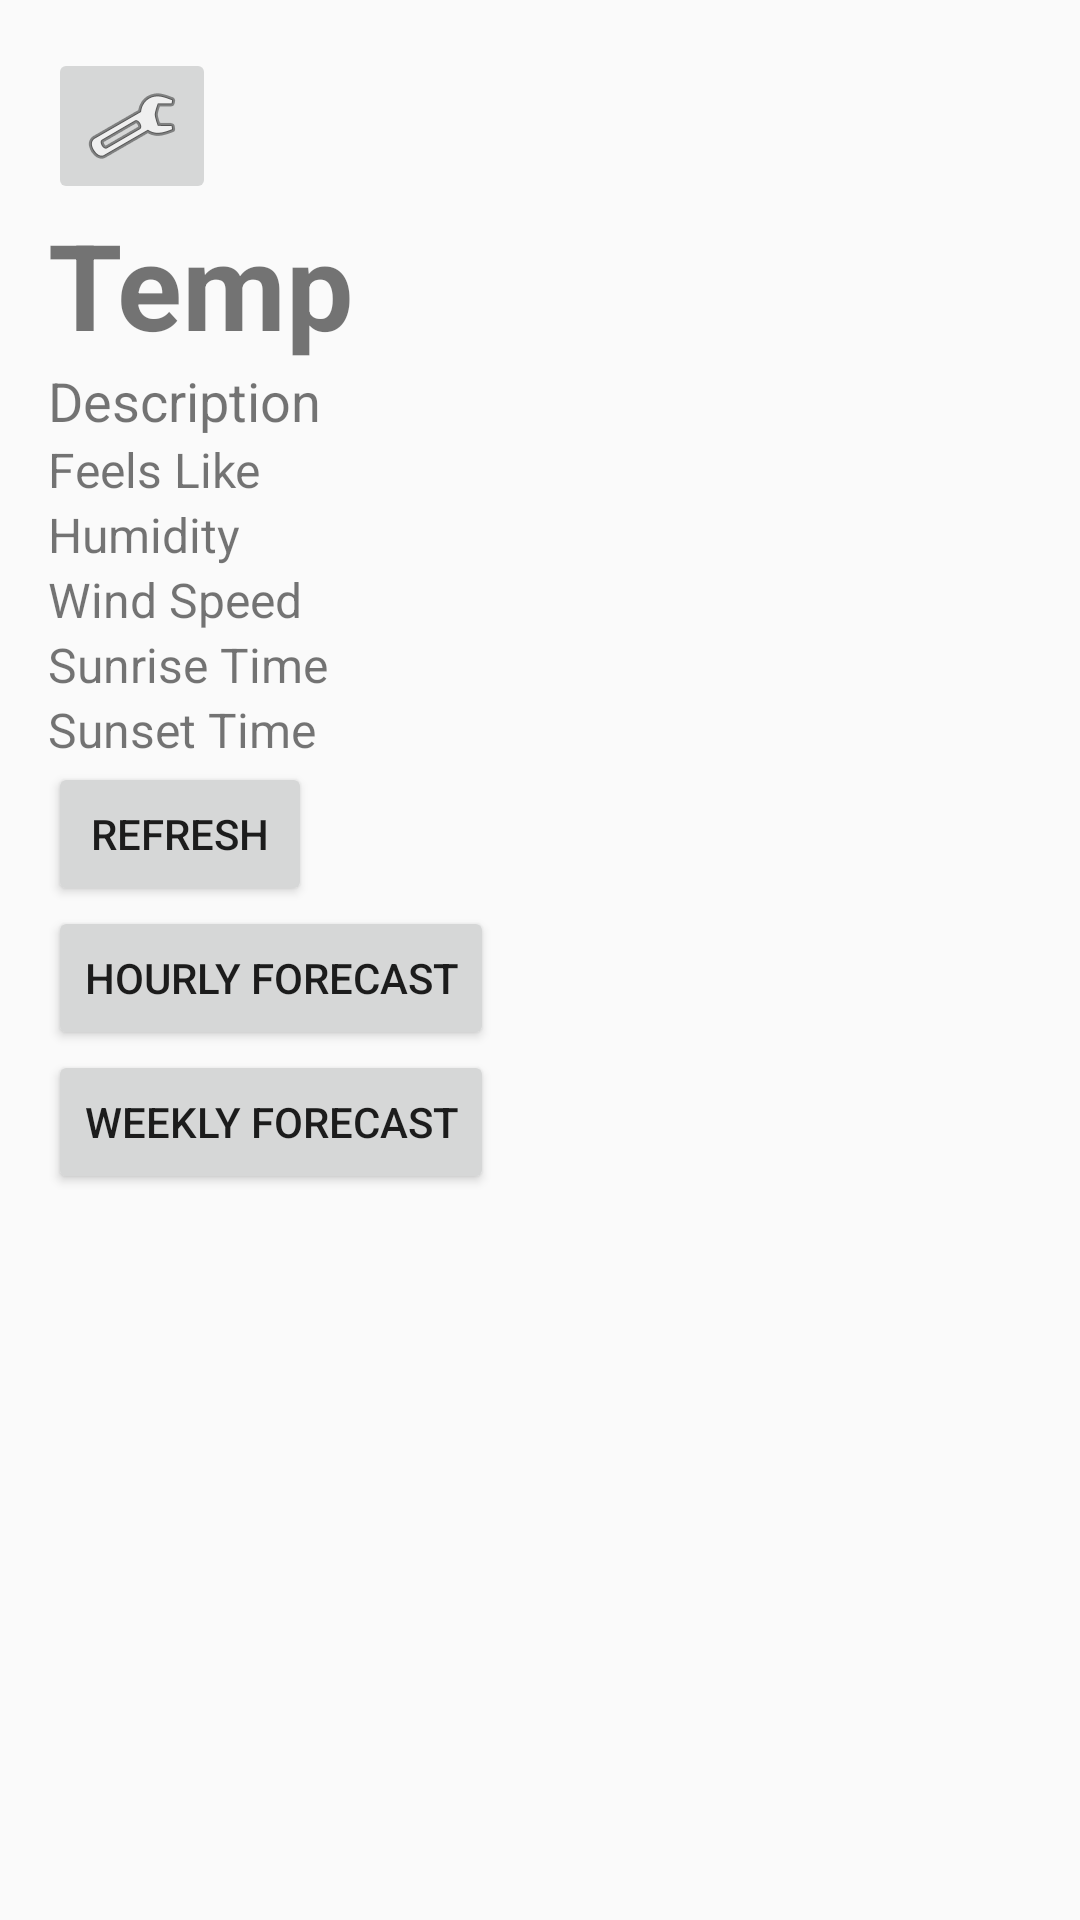

Named icons in this screenshot (1080*1920) and their bounding boxes, bbox=[x1, y1, x2, y2]:
preferences: bbox=[60, 66, 204, 186]
